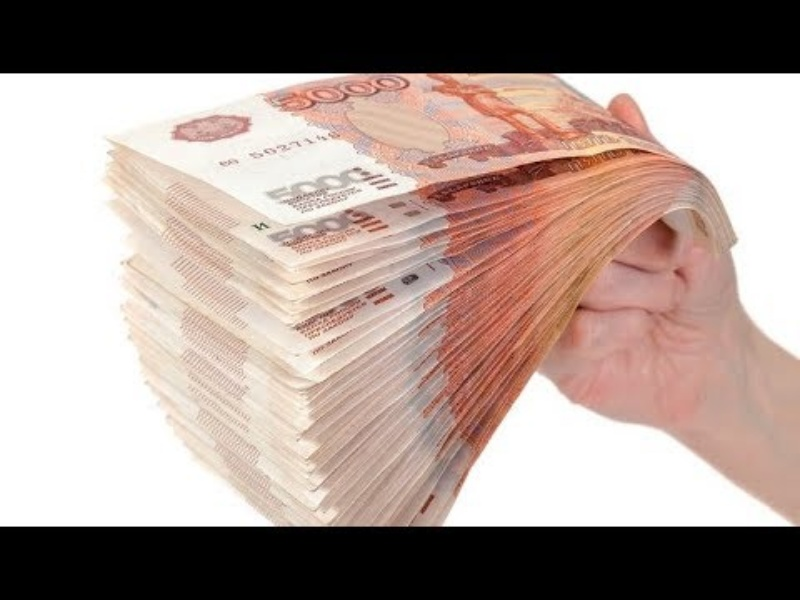cash: (105, 73, 742, 526)
